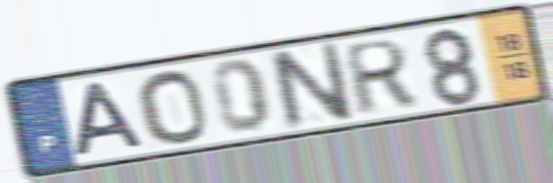0: (209, 56, 275, 138)
8: (418, 22, 483, 108)
A: (72, 78, 149, 160)
N: (263, 38, 358, 134)
O: (133, 67, 212, 146)
R: (343, 35, 419, 119)
